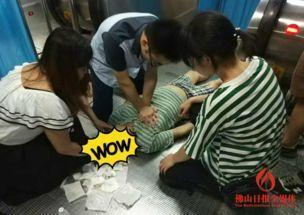Fall-Detected: (115, 60, 214, 156)
